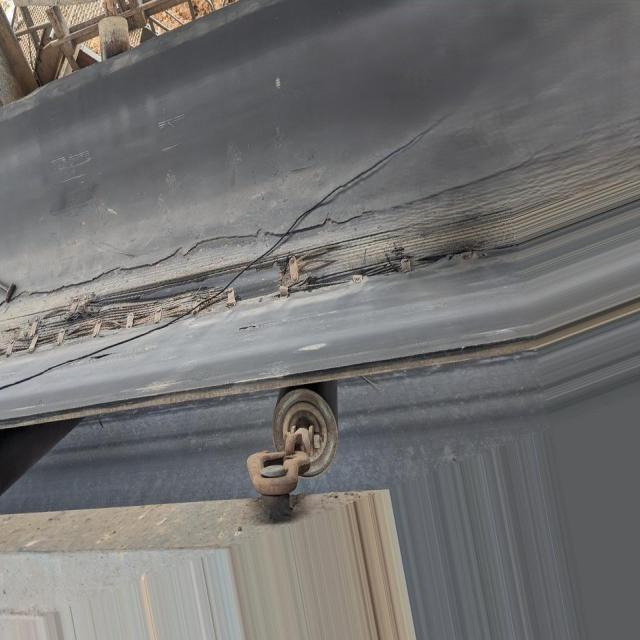Tear: (0, 179, 514, 360)
